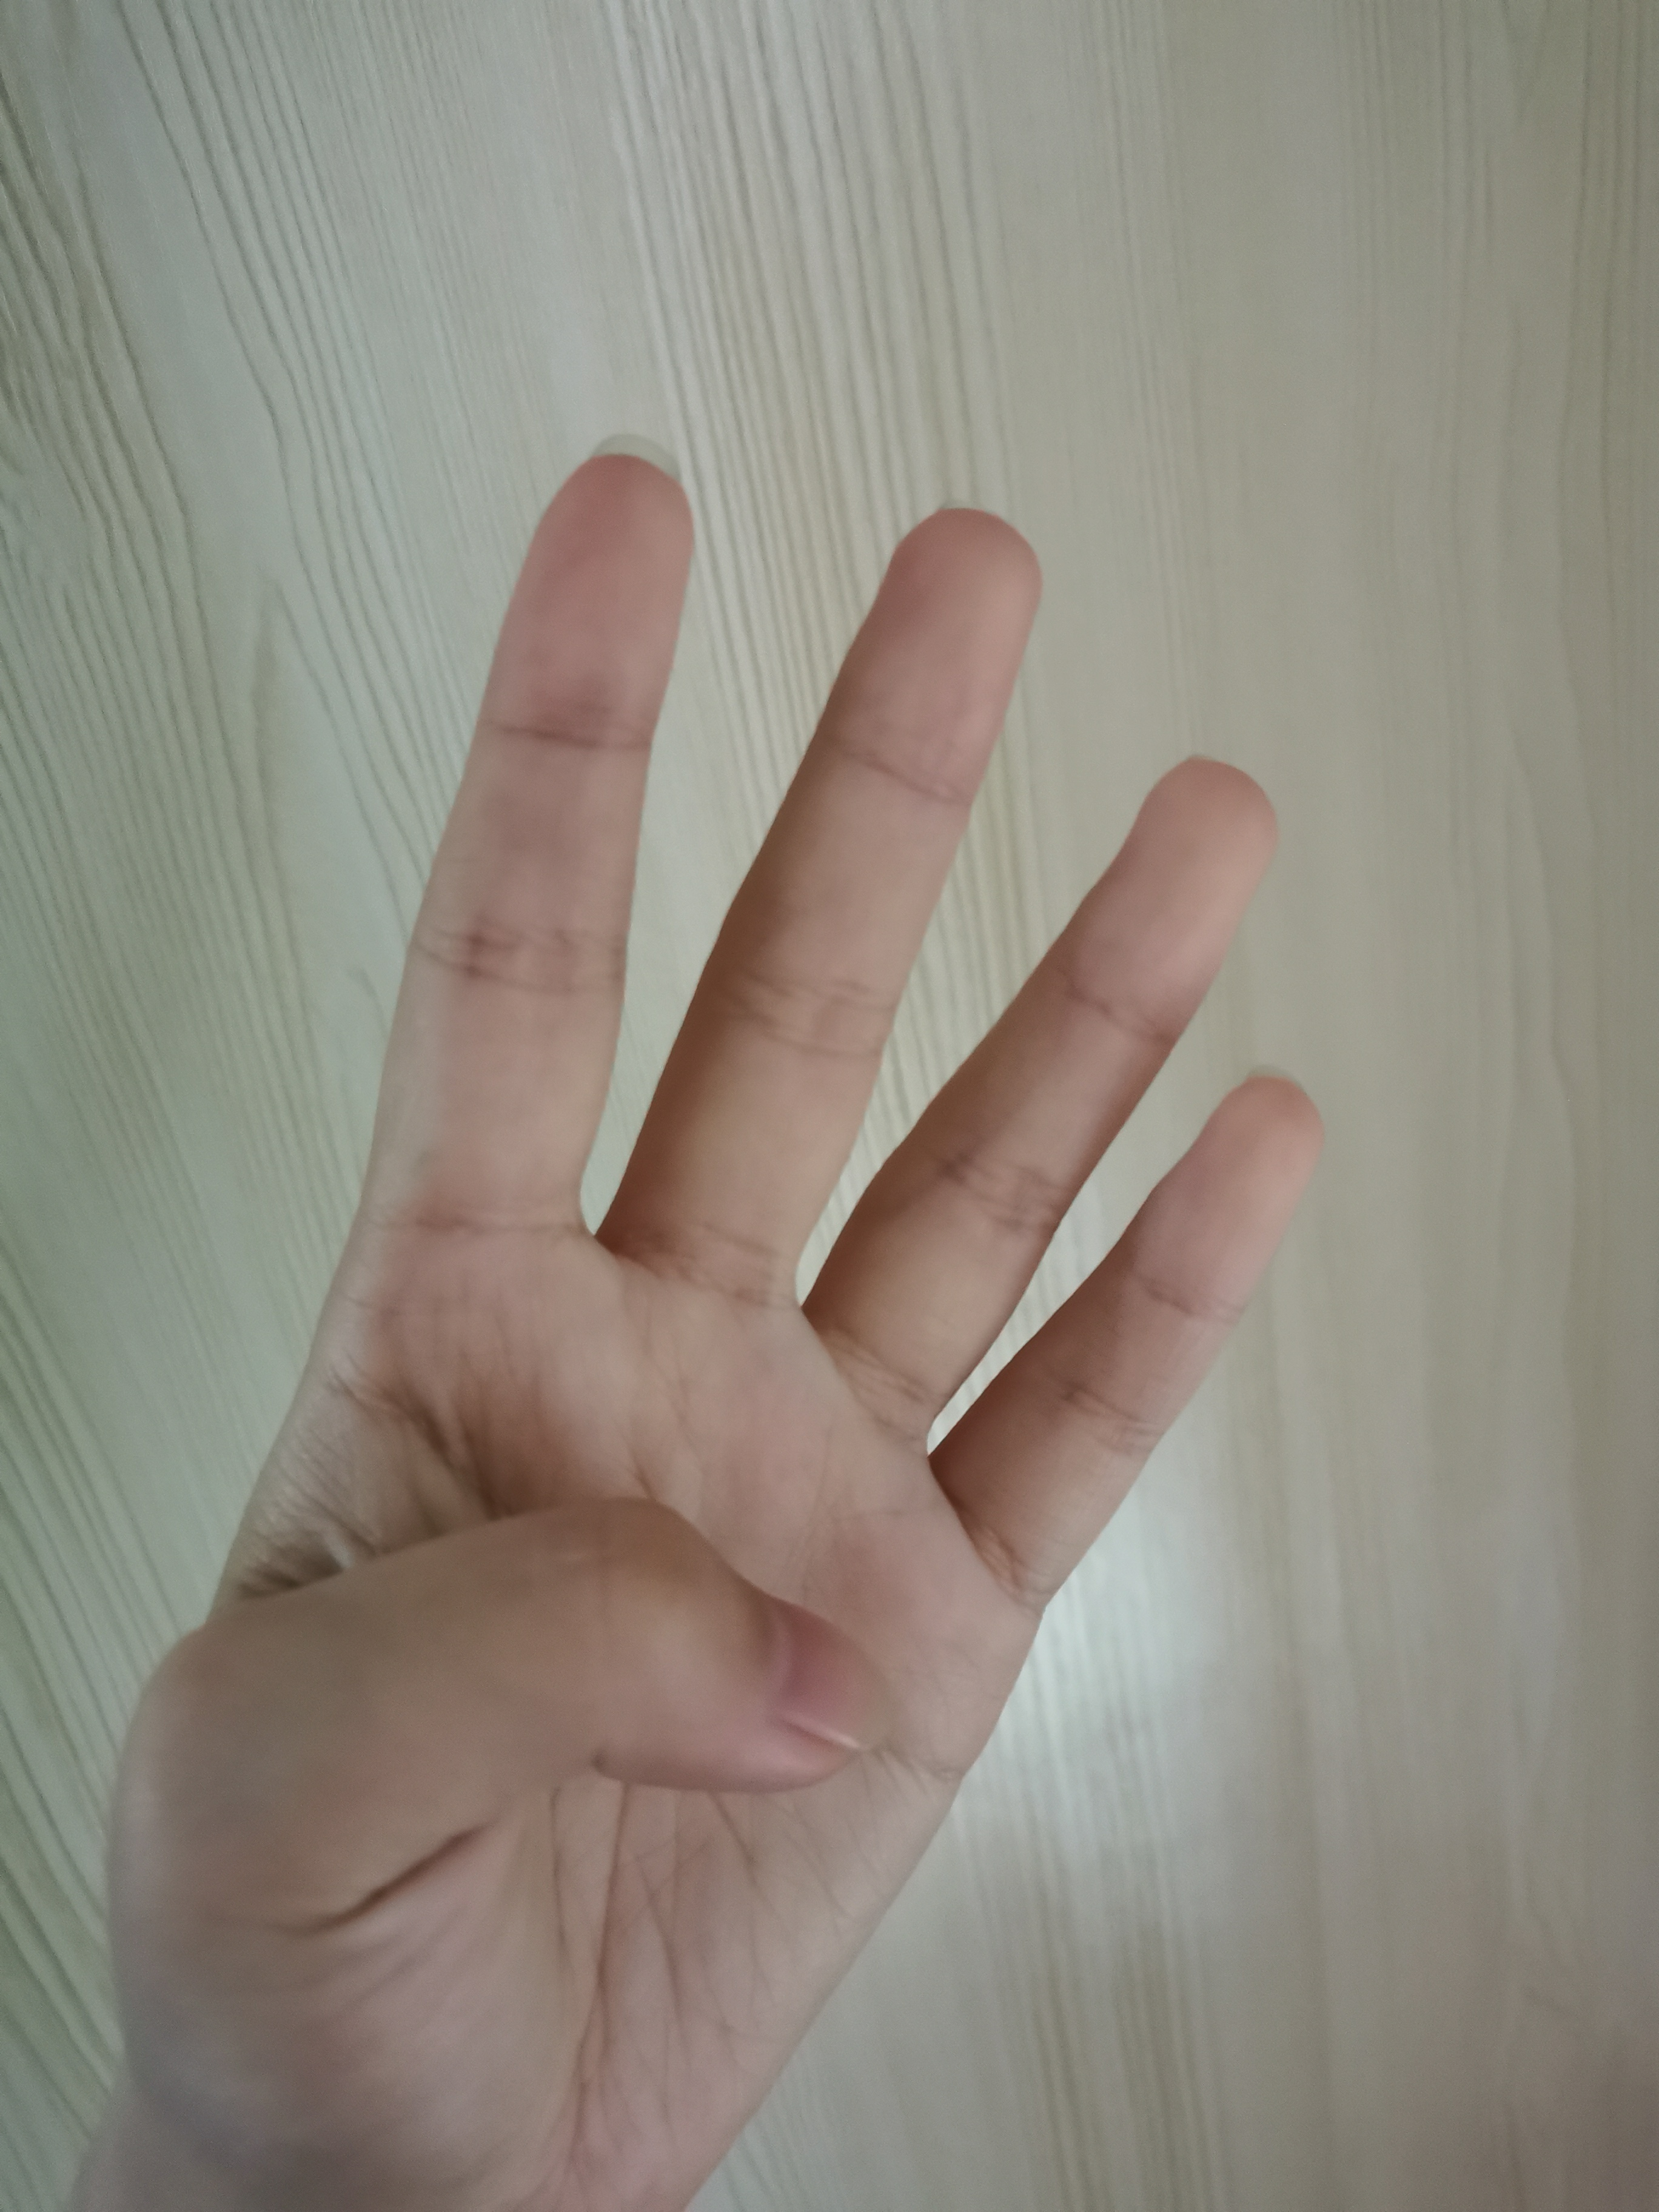right: (78, 432, 1342, 2121)
